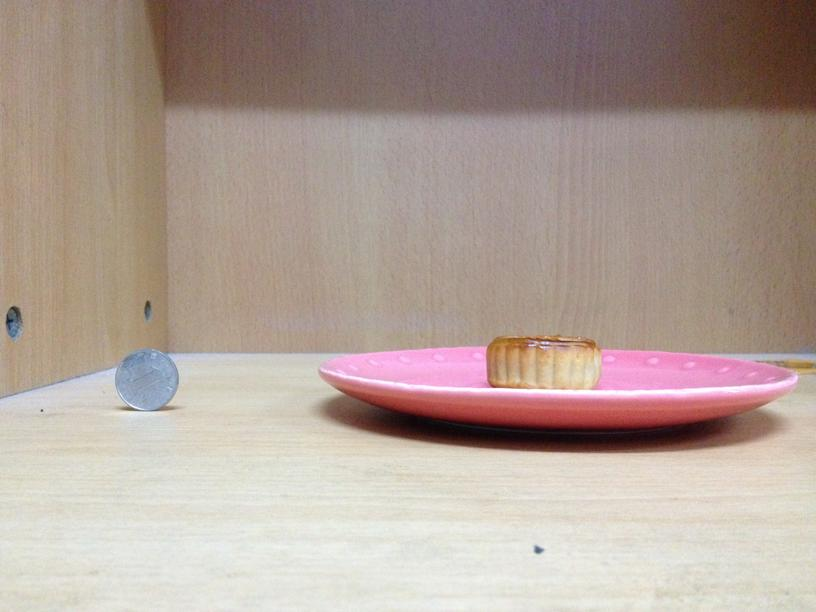coin: (113, 348, 177, 410)
mooncake: (484, 338, 601, 388)
